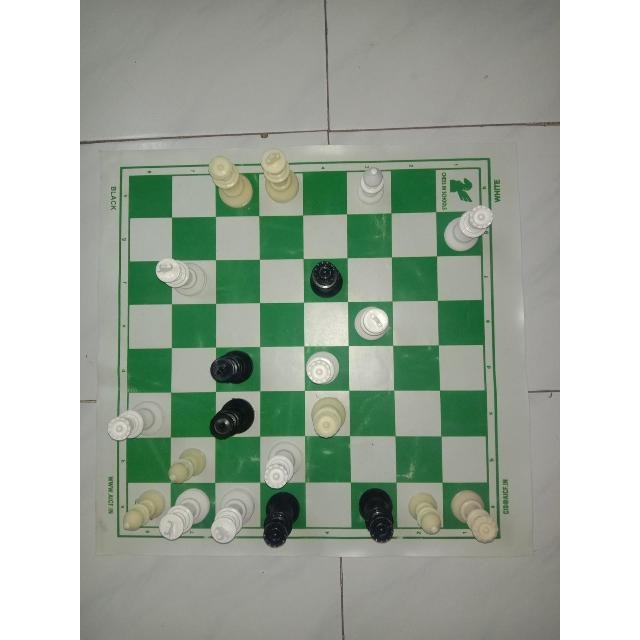black-king: (206, 347, 258, 386)
black-queen: (355, 484, 399, 544), (260, 489, 302, 551), (207, 395, 256, 441), (306, 258, 345, 300)
white-bishop: (120, 485, 162, 533), (403, 490, 442, 538), (165, 445, 209, 485), (352, 162, 388, 210)
white-king: (208, 487, 256, 547), (159, 487, 209, 541), (258, 144, 302, 204), (154, 256, 210, 298), (352, 303, 394, 341)
white-queen: (450, 487, 502, 547), (105, 395, 169, 441), (440, 203, 496, 253), (208, 154, 256, 212), (261, 440, 307, 490), (309, 392, 350, 440), (305, 348, 343, 386)
